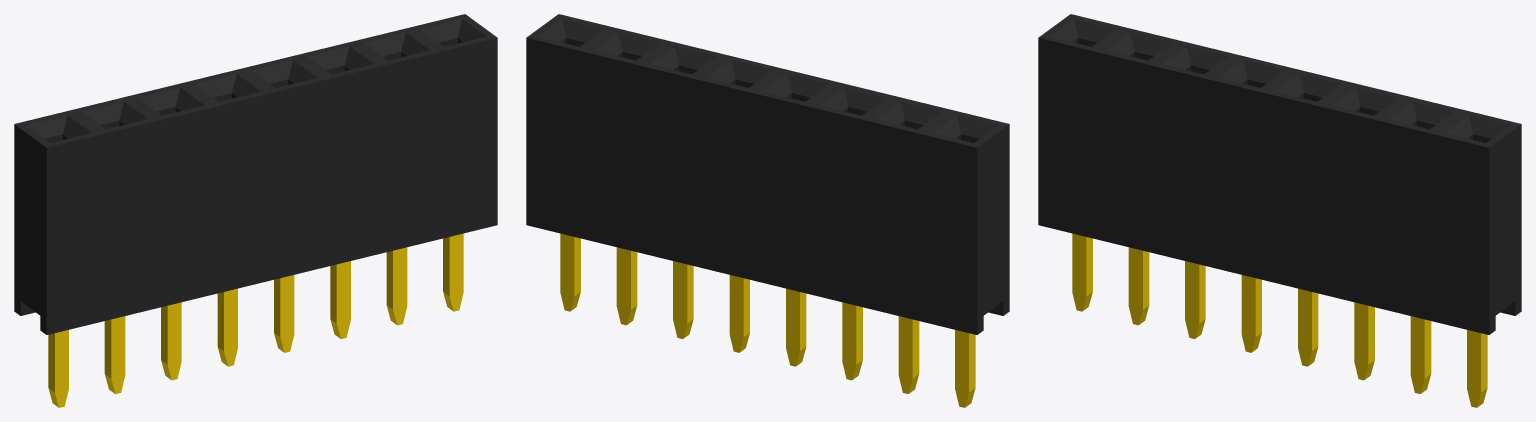
Rendered from PBS2-8.glb.
3 views of the same model, side by side, from view 1: azimuth 30°, elevation 25°; view 2: azimuth 150°, elevation 25°; view 3: azimuth 330°, elevation 25° (orthographic).
Parts seen in each view (by area): view 1: PBS2 (DS1026-20 CONNFLY); view 2: PBS2 (DS1026-20 CONNFLY); view 3: PBS2 (DS1026-20 CONNFLY).
Boxes of the visible parts, x1,y1,x2,y2 form: PBS2 (DS1026-20 CONNFLY): (14, 14, 497, 407); PBS2 (DS1026-20 CONNFLY): (526, 14, 1009, 407); PBS2 (DS1026-20 CONNFLY): (1038, 14, 1521, 407).
Bounding box in the file's own units: 0.016 × 0.00935 × 0.002.
